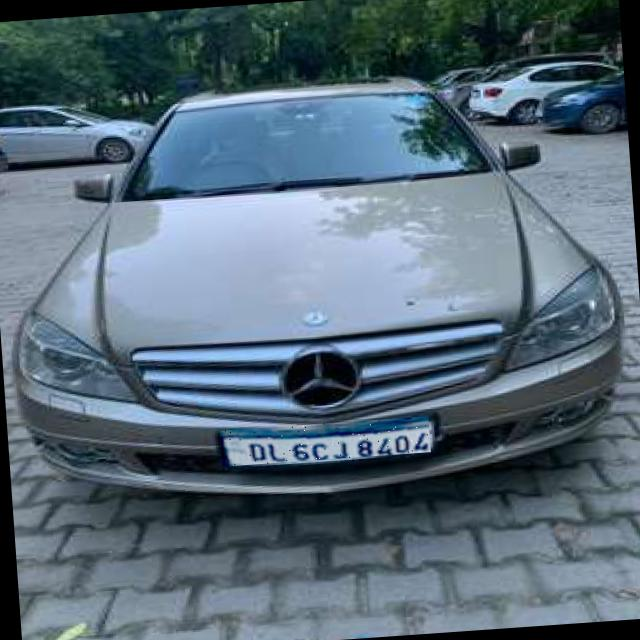Plate: (221, 417, 432, 467)
